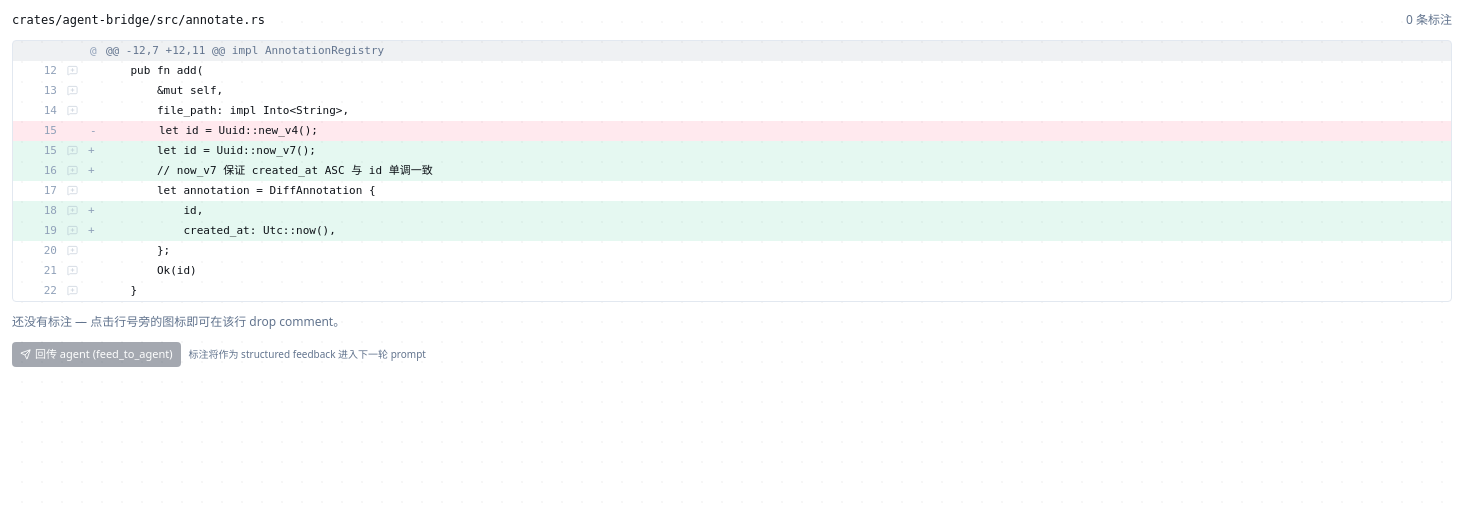
it: DiffAnnotator › add → 列表出现该条, 行上出现角标, 计数更新
Expected: the text "还没有标注 — 点击行号旁的图标即可在该行 drop comment。" is shown, [12,313,345,330]
Step 1. Click the button with test id "annotation-gutter-15" → (72, 150), box [65,143,80,158]
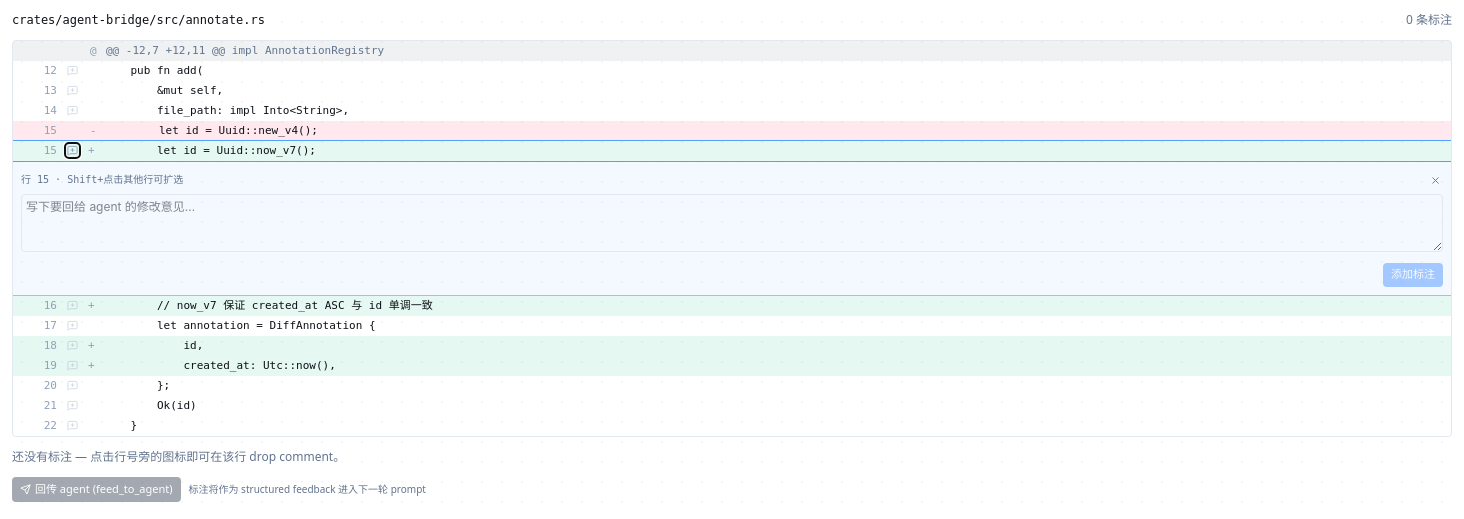
Step 2. Type "now_v7 要确认 uuid feature 打开了" into the text box with test id "annotation-body-input" → (732, 223), box [21,194,1443,252]
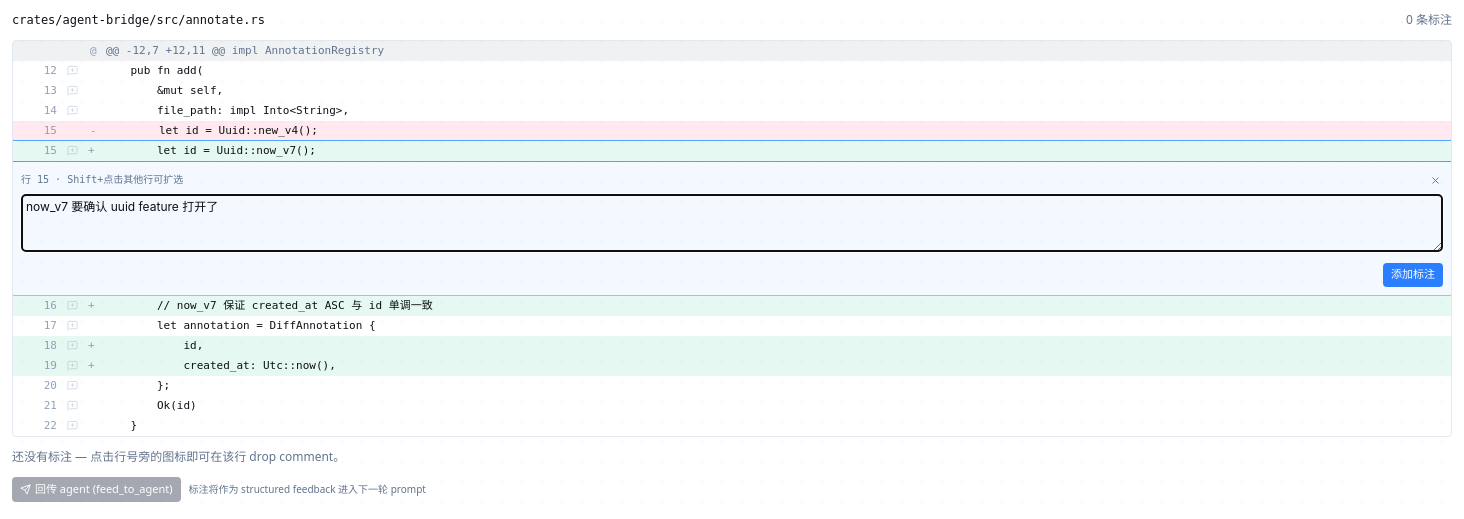
Step 3. Click the button with test id "annotation-submit" → (1413, 275), box [1383,263,1443,287]
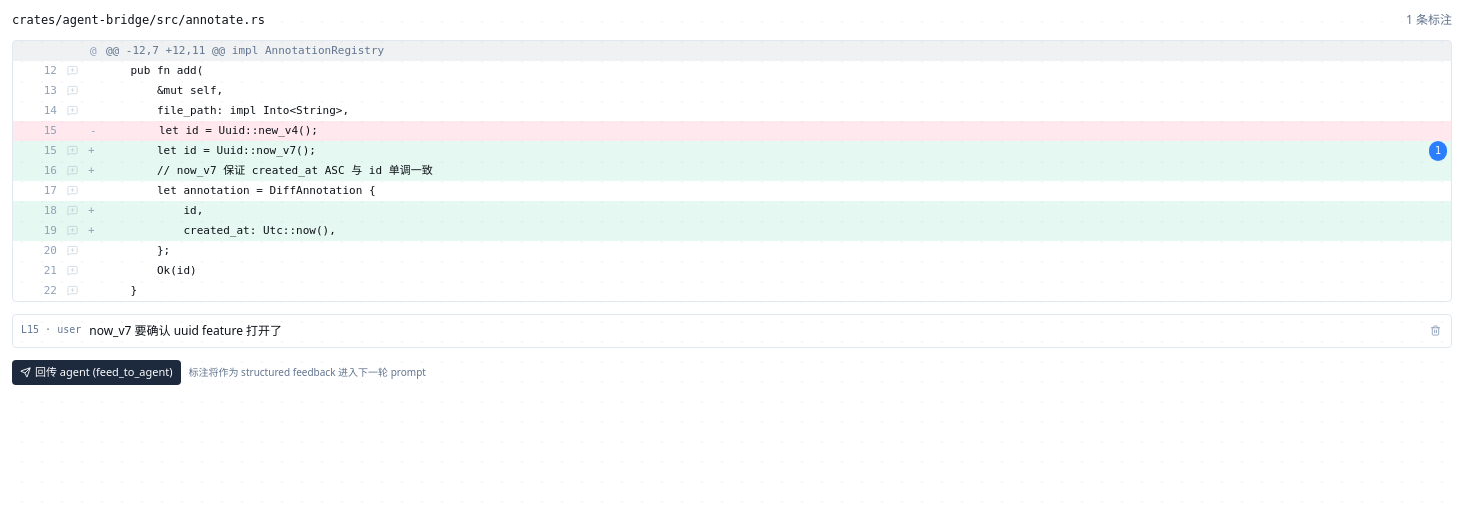
Expected: the number of elements with test id "annotation-item" is 1, [12,314,1452,348]
Expected: the element with test id "annotation-item" shows "now_v7 要确认 uuid feature 打开了", [89,322,282,339]
Expected: the element with test id "annotation-item" shows "L15", [12,314,1452,348]
